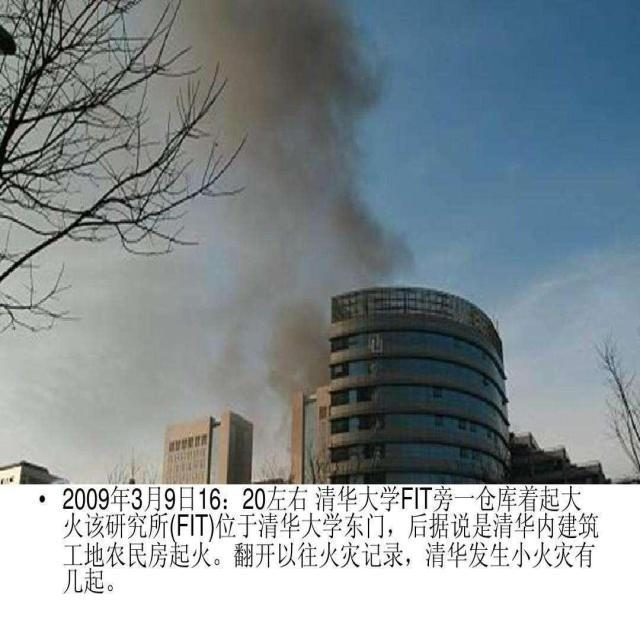Smoke: (154, 1, 416, 402)
